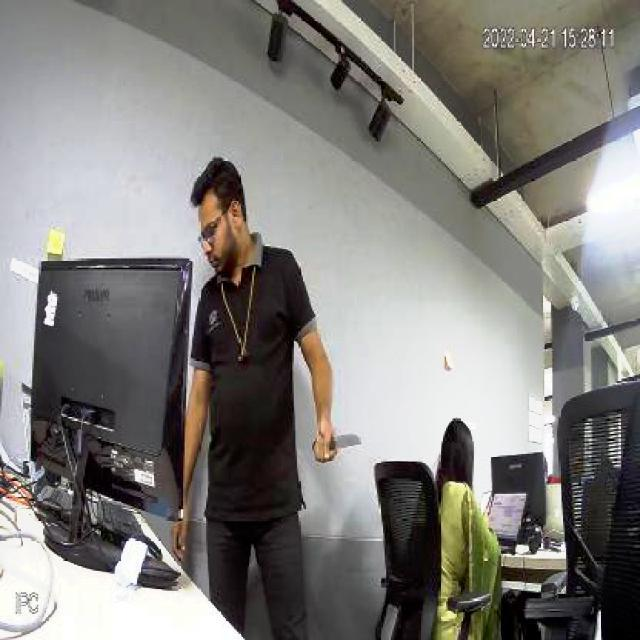Knife: (309, 431, 372, 467)
